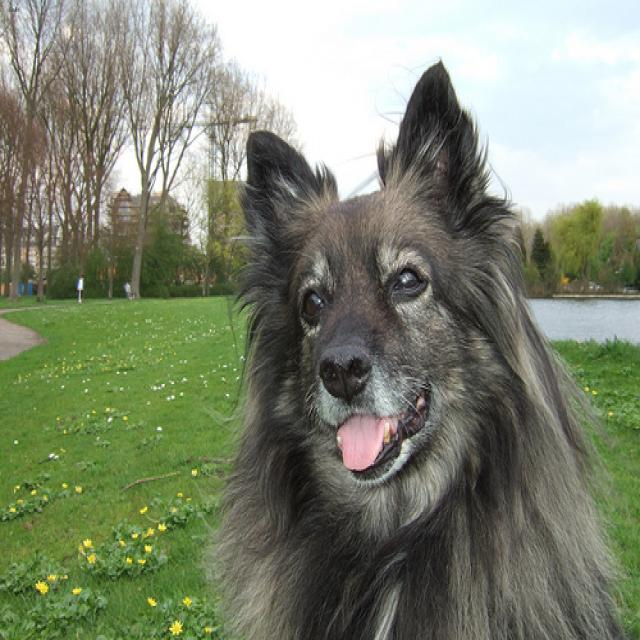dog-keeshond: (202, 46, 637, 637)
